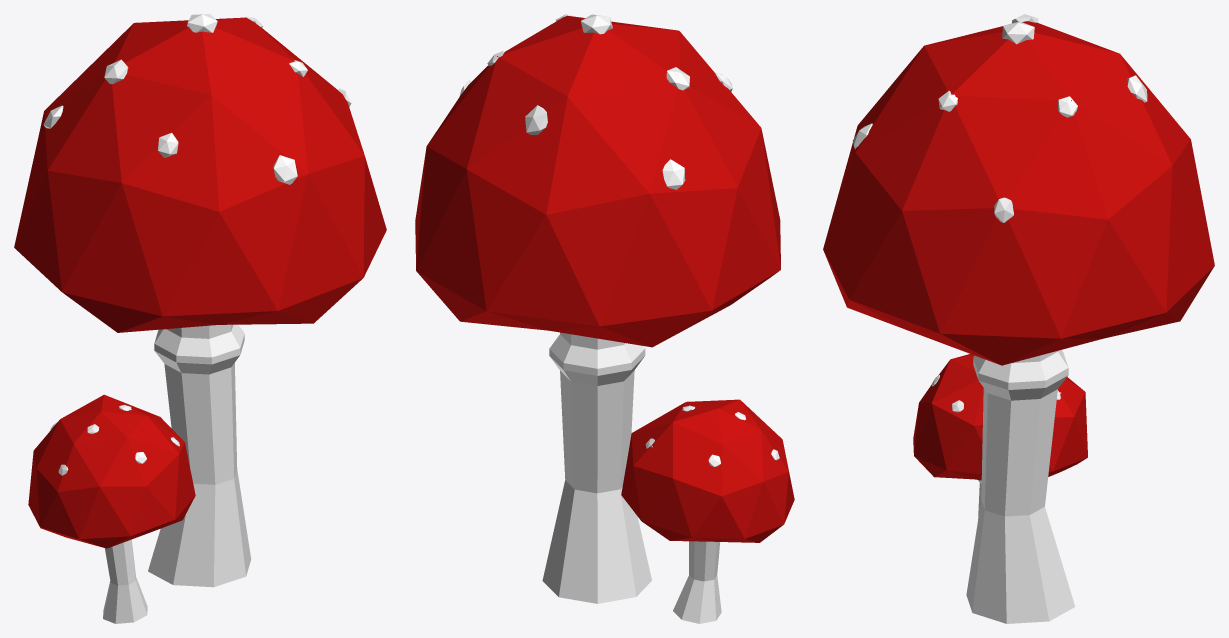
File: mushroom13.obj
3 views of the same model, side by side, from view 1: azimuth 30°, elevation 25°; view 2: azimuth 150°, elevation 25°; view 3: azimuth 270°, elevation 25° (orthographic). The views are drawn at different scales.
Parts seen in each view (by area): view 1: Mushroom5_3_Cylinder.058; view 2: Mushroom5_3_Cylinder.058; view 3: Mushroom5_3_Cylinder.058.
Part boxes in pixels (x1=…): Mushroom5_3_Cylinder.058: x1=14, y1=14, x2=386, y2=623; Mushroom5_3_Cylinder.058: x1=415, y1=14, x2=794, y2=623; Mushroom5_3_Cylinder.058: x1=823, y1=14, x2=1214, y2=623.
Bounding box in the file's own units: 0.9621 × 1.59 × 0.9432.
